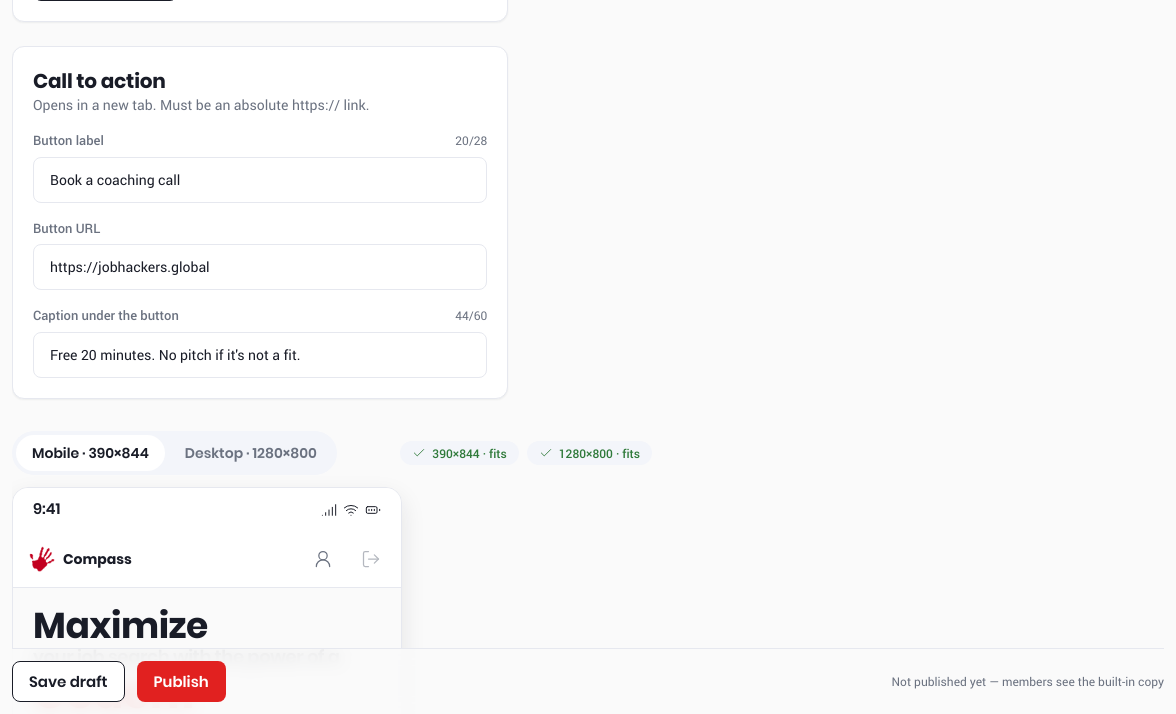
Admin → Coaching tab › publishes the full content model and shows who published and when
(page scrolled)
Replace the text in the field labelled "Caption under the button" with "Free 20 minutes." at (260, 354), box [33,332,487,378]
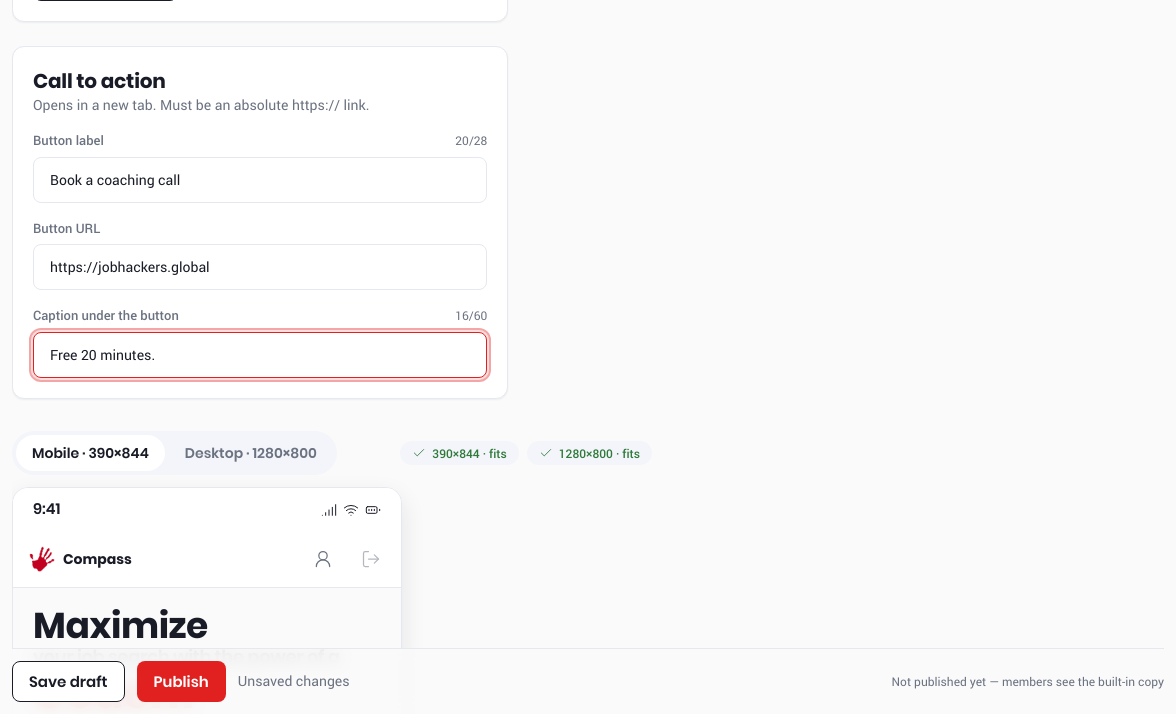
Click the button "Publish".
click(181, 682)  # box [136,661,226,702]
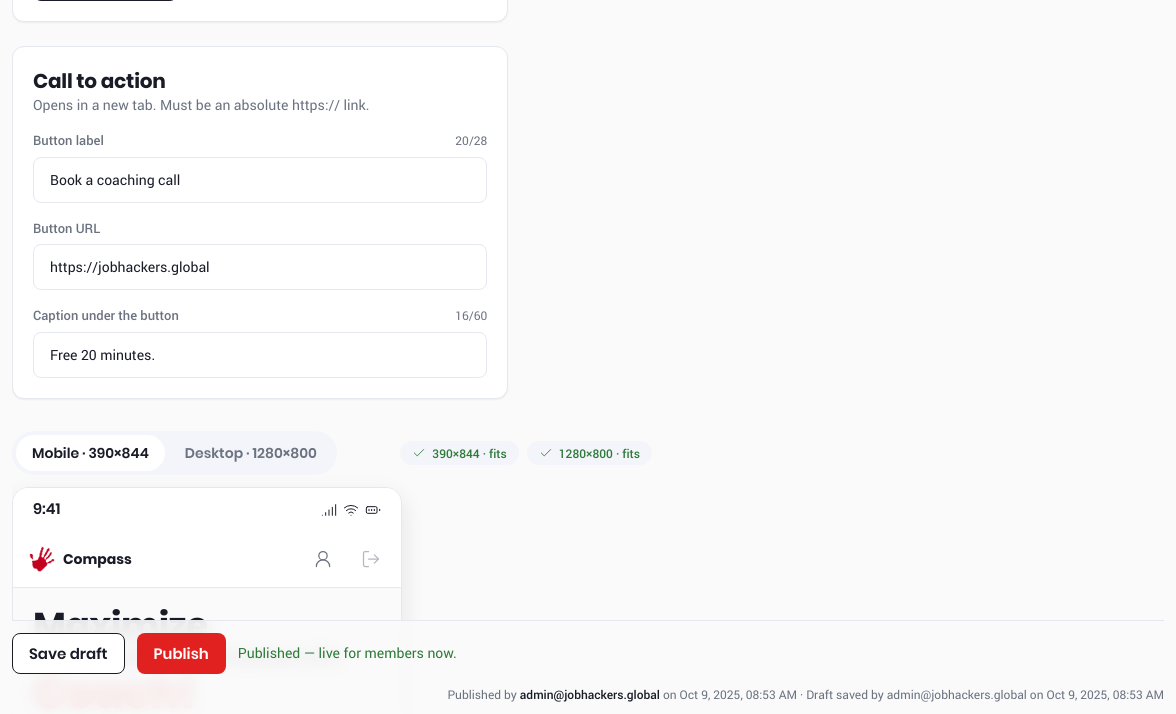
expect the text "Published — live for members now." is shown: met, box [238,644,457,664]
expect the element with test id "coaching-audit" shows "Published by admin@jobhackers.global on": met, box [447,686,1164,702]
expect the element with test id "coaching-audit" shows "2025": met, box [680,686,797,702]
